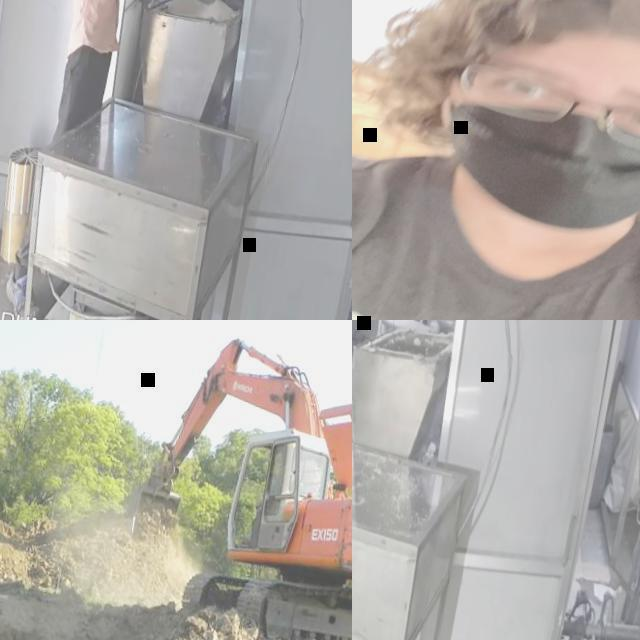machinery: (112, 322, 352, 640)
mask: (423, 88, 640, 250)
no_helmet: (423, 0, 640, 106)
no_vest: (352, 126, 640, 320), (57, 0, 147, 60)
person: (352, 0, 640, 320), (0, 0, 221, 320), (242, 468, 286, 554)
